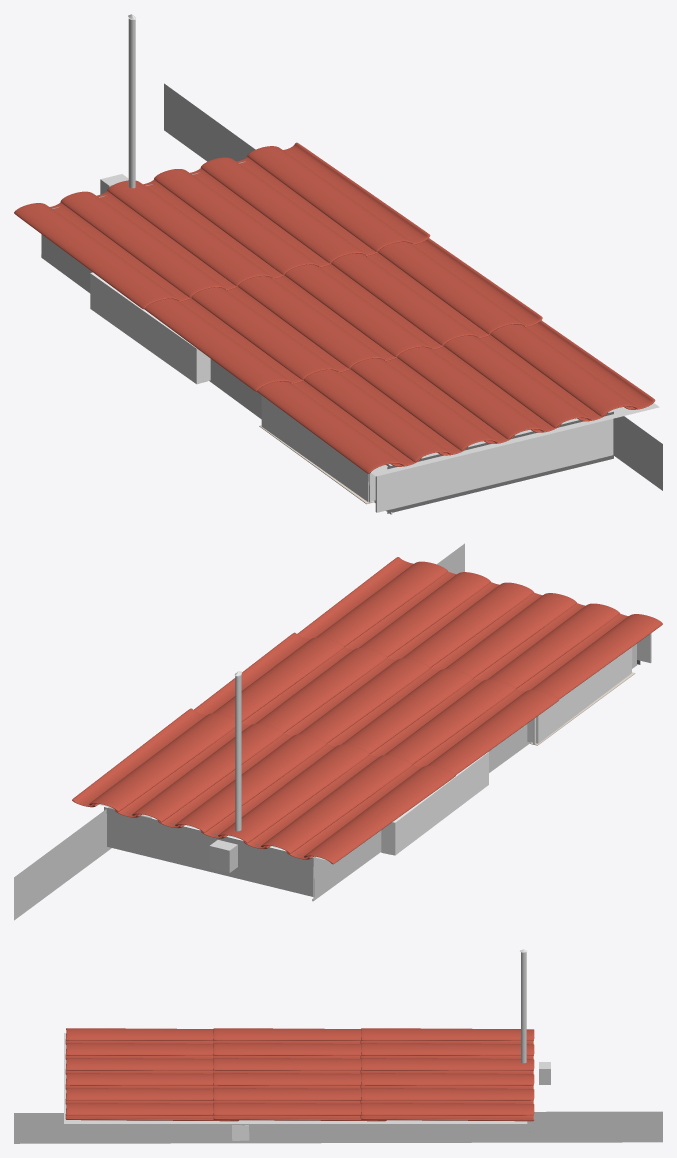
The model's file is lyddaero.3445blend.fbx.
The picture shows the model from 3 angles, top to bottom: view 1: azimuth 30°, elevation 25°; view 2: azimuth 150°, elevation 25°; view 3: azimuth 270°, elevation 25°; orthographic projection. The views are drawn at different scales.
Visible parts, largest first — view 1: lyddaerolTerminal l Roof, CTRL_Hole.001, lyddaerolTerminal .003, CTRL_Hole.003, CTRL_Hole.002, lyddaerolTerminal .005, lyddaerolTerminal Plasterboard, Air Traffic Control, lyddaerolTerminal .002; view 2: lyddaerolTerminal l Roof, lyddaerolTerminal .004, lyddaerolTerminal .003, CTRL_Hole.003, CTRL_Hole.002, lyddaerolTerminal .005, Air Traffic Control, air con; view 3: lyddaerolTerminal l Roof, lyddaerolTerminal .003, lyddaerolTerminal Plasterboard, Air Traffic Control.
Part boxes in pixels (x1,y1,x2,y2): lyddaerolTerminal l Roof: (14, 142, 655, 473); CTRL_Hole.001: (375, 419, 613, 512); lyddaerolTerminal .003: (164, 83, 662, 490); CTRL_Hole.003: (90, 272, 210, 384); CTRL_Hole.002: (261, 395, 375, 502); lyddaerolTerminal .005: (41, 234, 390, 501); lyddaerolTerminal Plasterboard: (371, 403, 659, 476); Air Traffic Control: (128, 17, 135, 188); lyddaerolTerminal .002: (387, 411, 613, 513); lyddaerolTerminal l Roof: (72, 557, 662, 864); lyddaerolTerminal .004: (104, 807, 314, 896); lyddaerolTerminal .003: (14, 543, 464, 920); CTRL_Hole.003: (381, 752, 488, 855); CTRL_Hole.002: (527, 647, 631, 743); lyddaerolTerminal .005: (313, 644, 637, 900); Air Traffic Control: (235, 674, 241, 831); air con: (209, 840, 237, 872); lyddaerolTerminal l Roof: (65, 1028, 534, 1121); lyddaerolTerminal .003: (14, 1111, 662, 1143); lyddaerolTerminal Plasterboard: (64, 1033, 527, 1123); Air Traffic Control: (521, 952, 526, 1063).
Bounding box in the file's own units: 26981 × 20182 × 79605.
